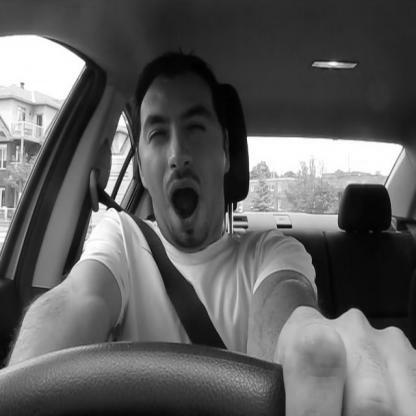seatbelt: (86, 45, 262, 404)
